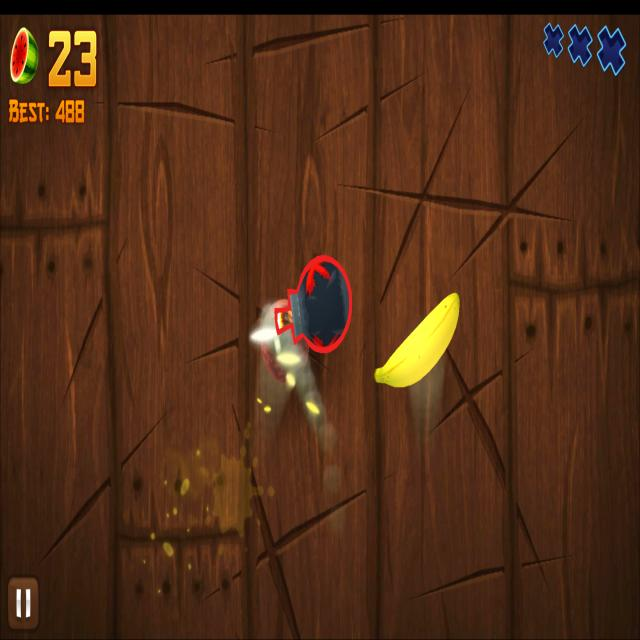bomb: (274, 254, 354, 356)
fruit: (374, 292, 461, 389), (262, 299, 310, 384)
